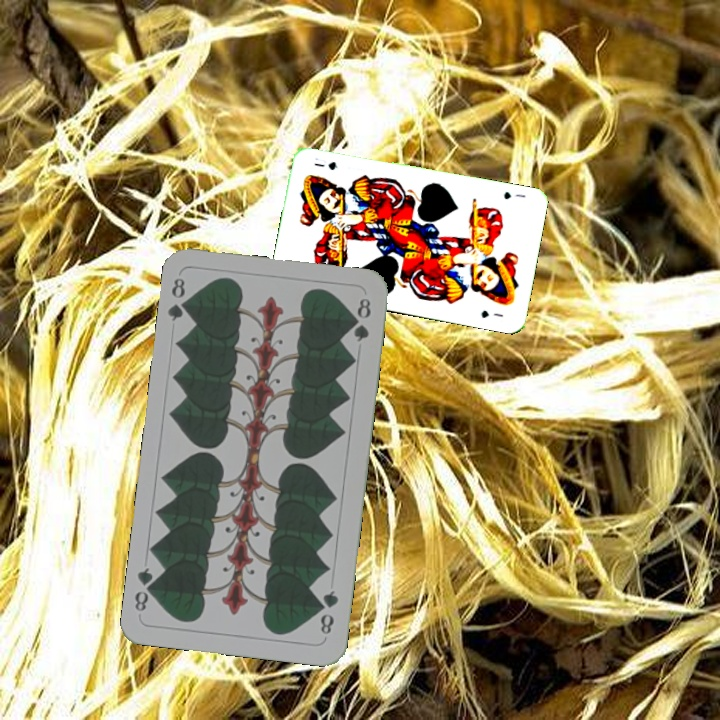G8: (164, 273, 193, 324), (315, 586, 341, 637)
GU: (500, 187, 528, 202)
